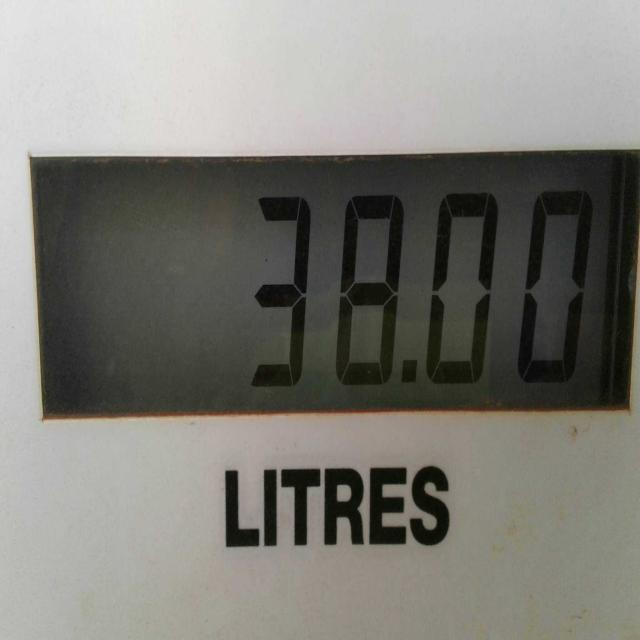.: (390, 344, 420, 400)
0: (508, 176, 598, 415), (414, 186, 504, 386)
3: (234, 180, 329, 403)
8: (325, 183, 411, 400)
